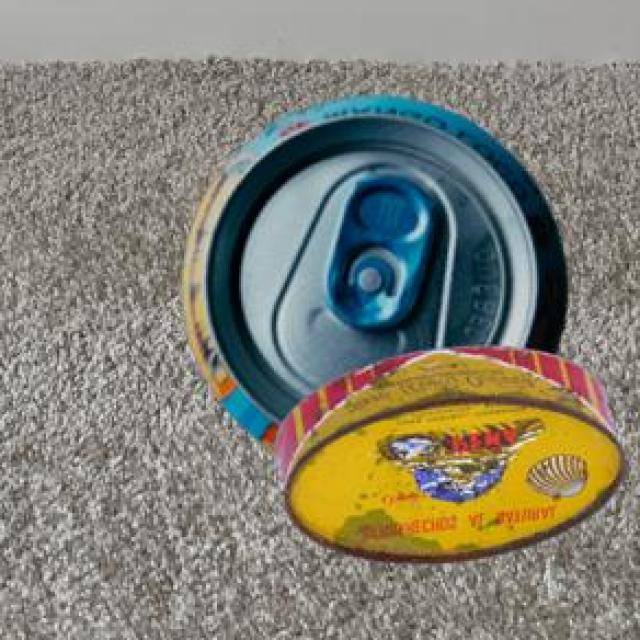logam: (185, 93, 571, 448), (279, 343, 630, 560)
